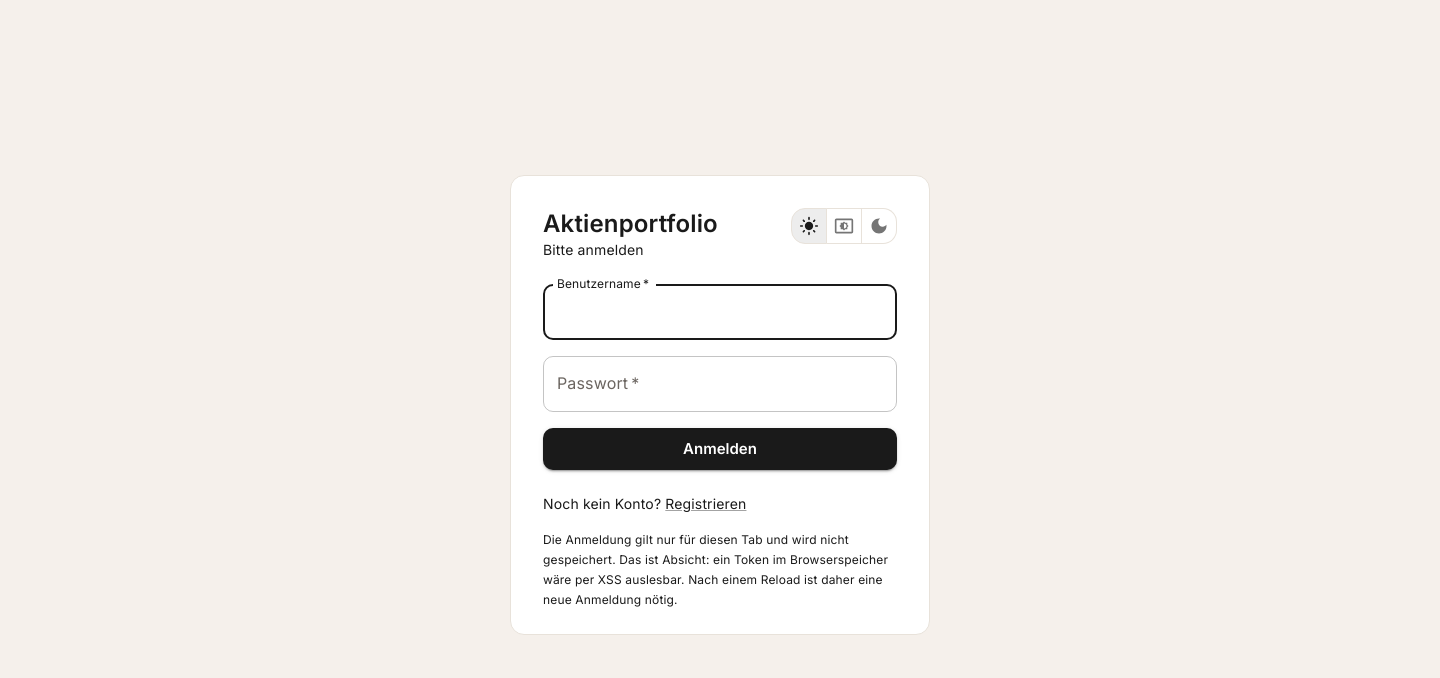
Dashboard › warnt, wenn Positionen ohne Live-Kurs aus dem Marktwert fehlen
Type "demo" into the field labelled "Benutzername *" at (720, 312), box x1=543 y1=284 x2=897 y2=340
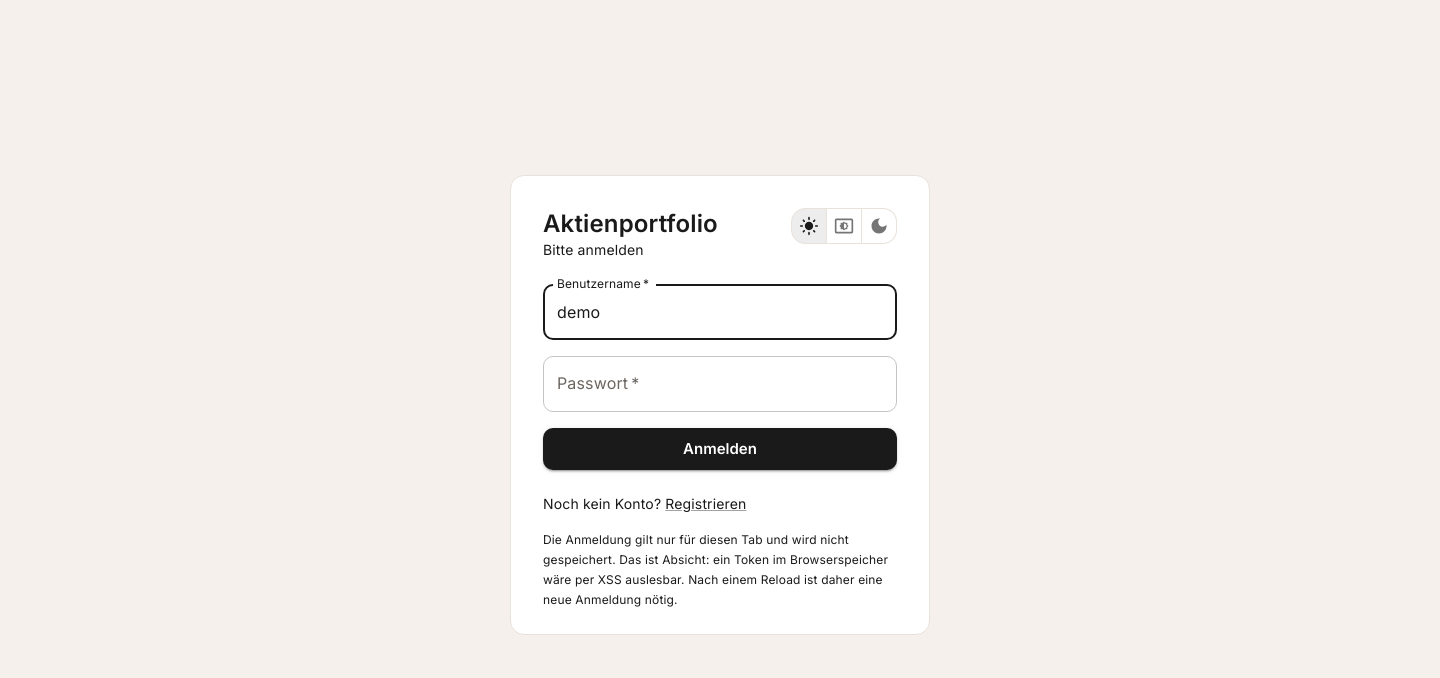
Type "demo1234" into the password field labelled "Passwort *" at (720, 384), box x1=543 y1=356 x2=897 y2=412
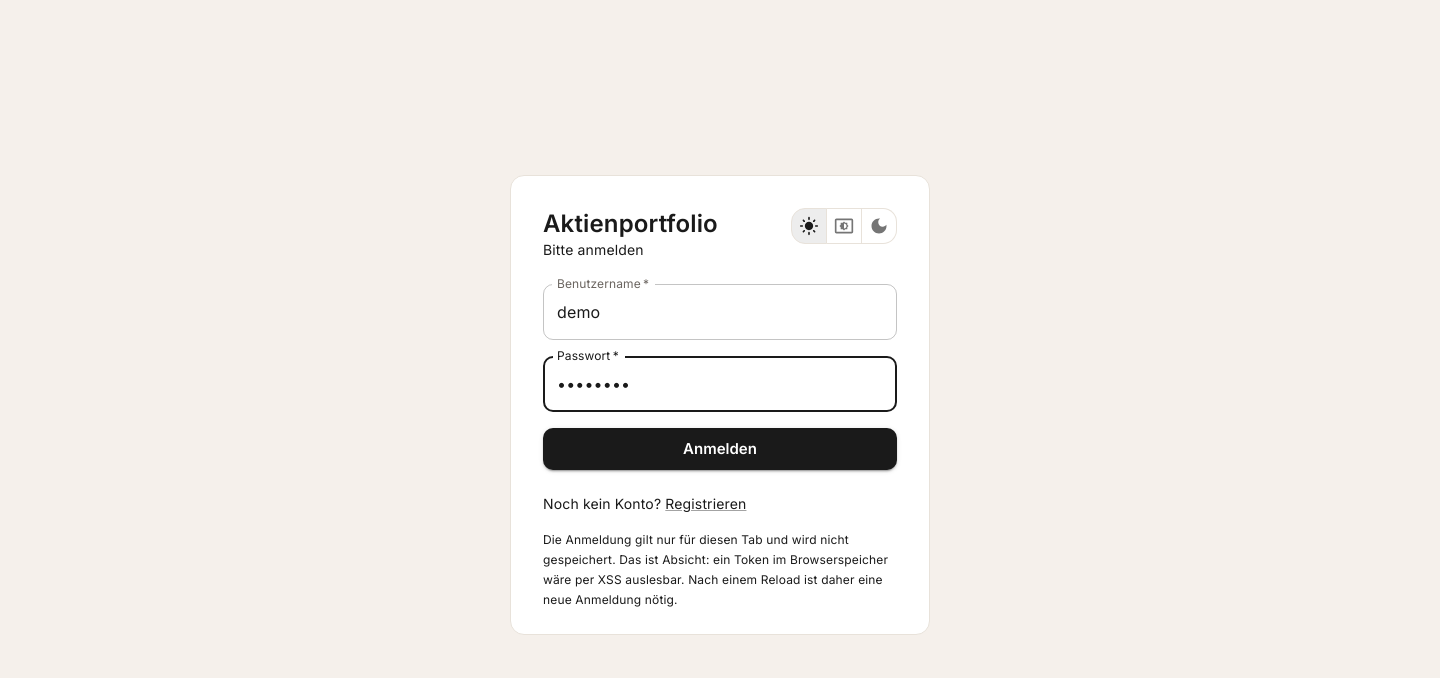
Click the button "Anmelden" at (720, 449), box x1=543 y1=428 x2=897 y2=470
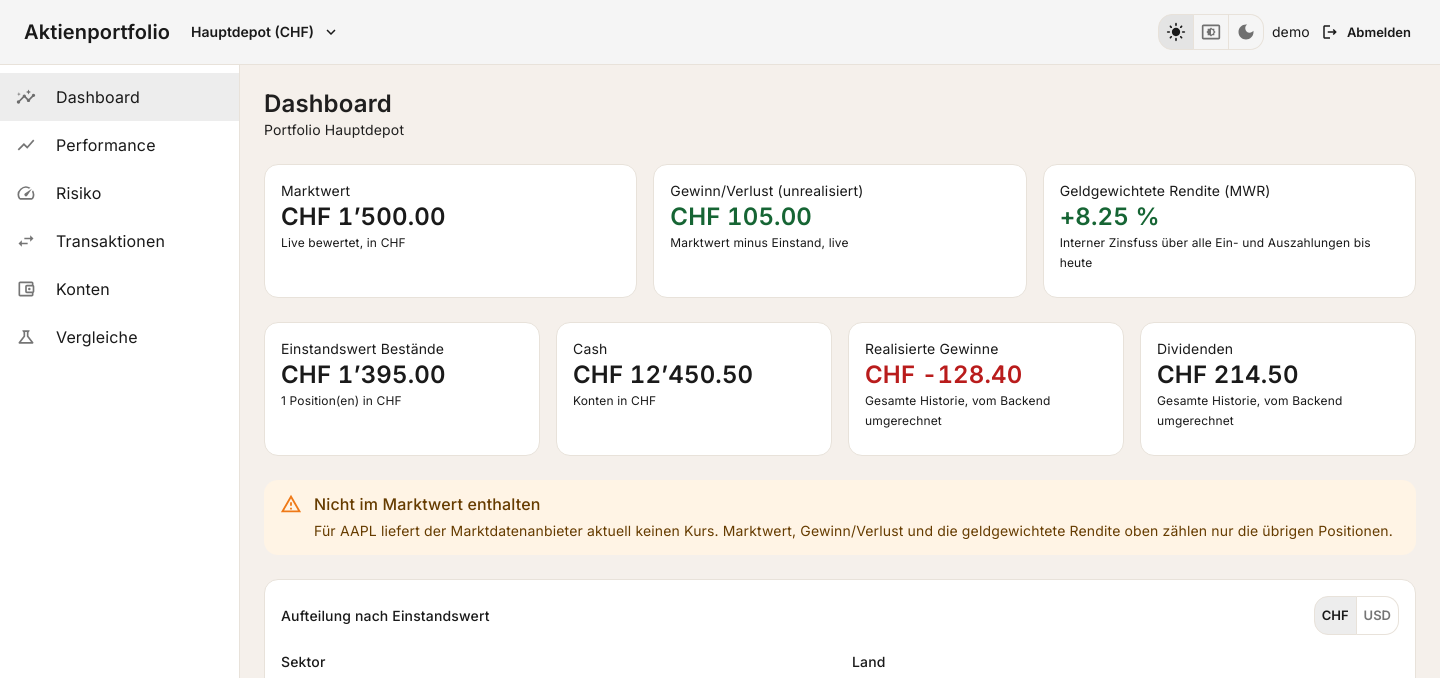
expect the button "Abmelden" is shown: met, box x1=1318 y1=17 x2=1416 y2=47
expect the text "Nicht im Marktwert enthalten" is shown: met, box x1=314 y1=494 x2=540 y2=514
expect the text "Für AAPL liefert der Marktdatenanbieter" is shown: met, box x1=314 y1=486 x2=1393 y2=549
